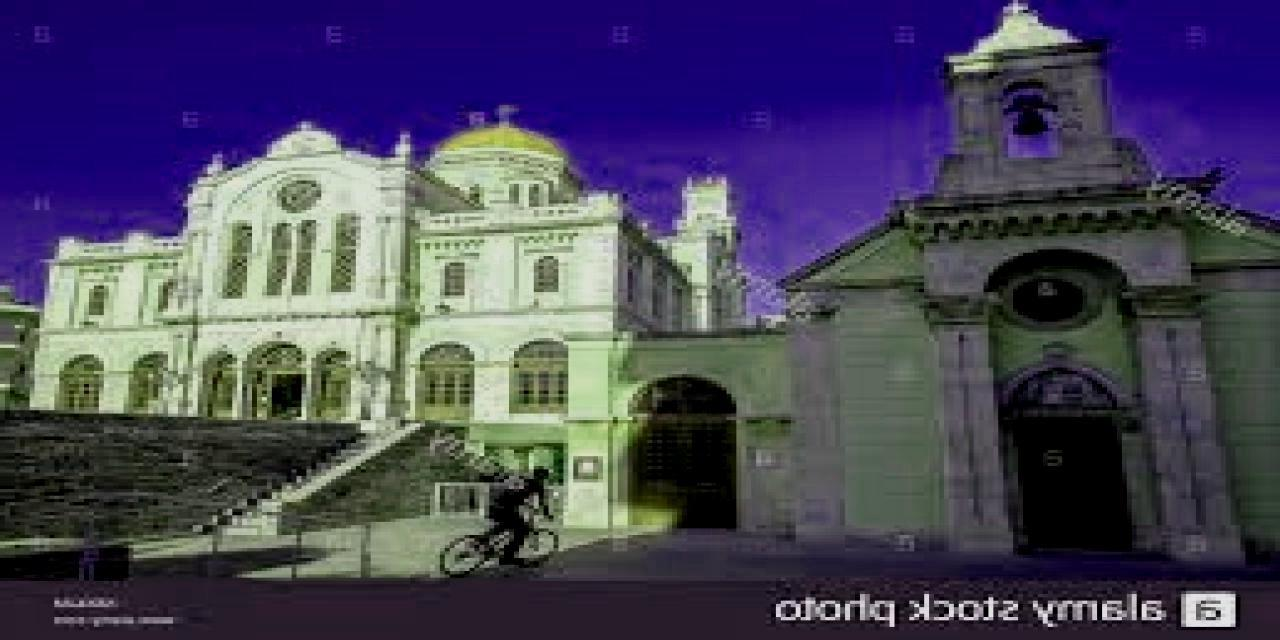Agios Minas: (16, 1, 1280, 547)
